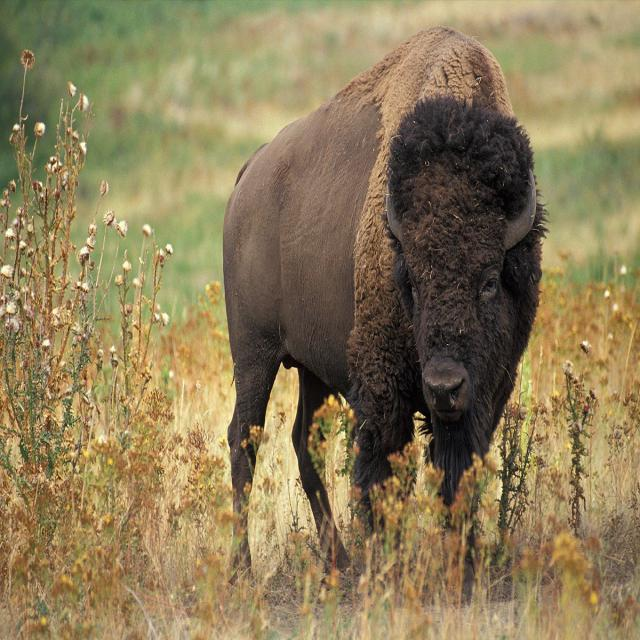Bison: (192, 13, 564, 598)
